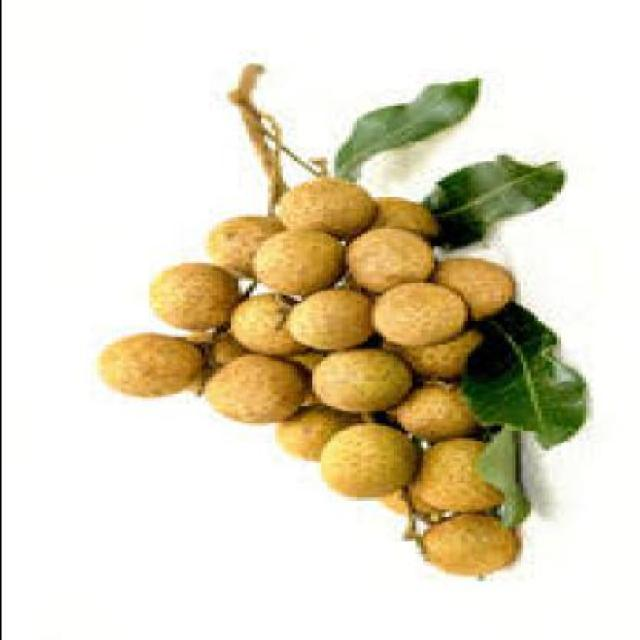BIODEGRADABLE: (452, 300, 588, 451), (329, 81, 474, 182), (403, 162, 563, 252), (403, 438, 522, 512), (315, 423, 410, 505), (411, 514, 522, 580), (199, 357, 304, 423), (145, 264, 237, 330), (367, 285, 462, 347), (307, 352, 399, 416), (248, 232, 348, 290), (96, 342, 196, 400), (381, 329, 481, 382), (266, 182, 371, 232), (422, 258, 508, 317), (277, 296, 366, 350), (340, 234, 422, 292), (222, 298, 300, 357), (388, 386, 474, 436), (203, 216, 266, 281), (273, 404, 341, 461), (178, 335, 233, 399), (362, 200, 436, 234), (377, 489, 411, 517)
